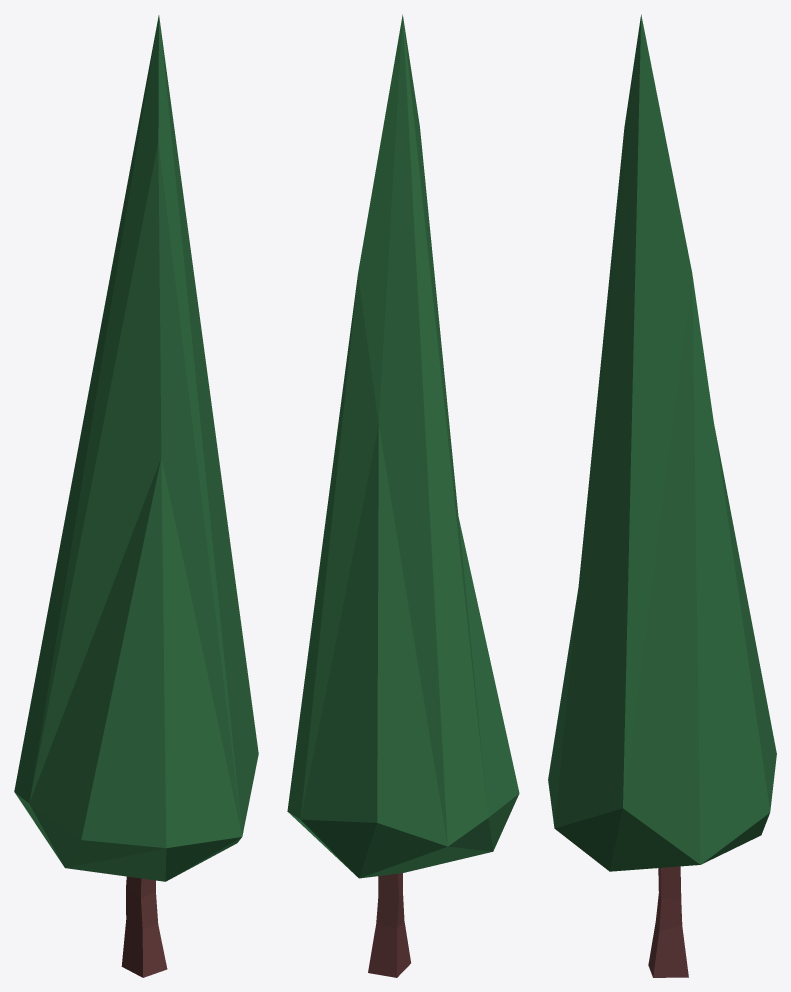
File: Flat_Tree_Cypress_small.glb
The picture shows the model from 3 angles, left to right: view 1: azimuth 30°, elevation 25°; view 2: azimuth 150°, elevation 25°; view 3: azimuth 270°, elevation 25°; orthographic projection. The views are drawn at different scales.
Visible parts, largest first — view 1: Cypress small f; view 2: Cypress small f; view 3: Cypress small f.
Boxes of the visible parts, box(x1,y1,x2,y2) form: Cypress small f: box(14, 15, 258, 977); Cypress small f: box(287, 14, 519, 977); Cypress small f: box(548, 14, 776, 977).
Bounding box in the file's own units: 2.24 × 10.38 × 2.25.
